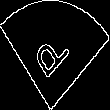P_SW: (33, 24, 77, 86)
